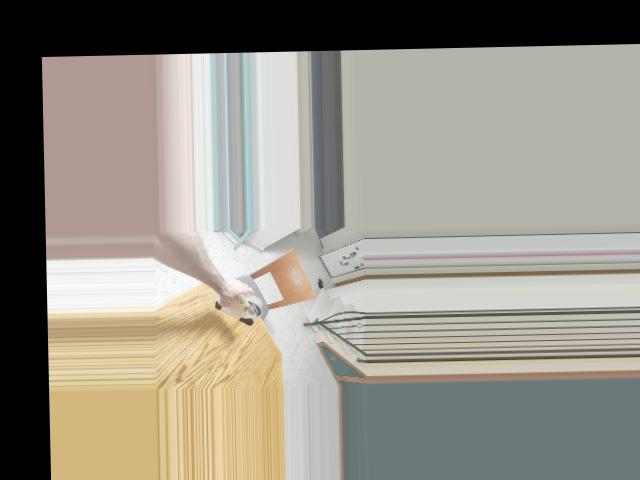cheese: (210, 278, 263, 326)
